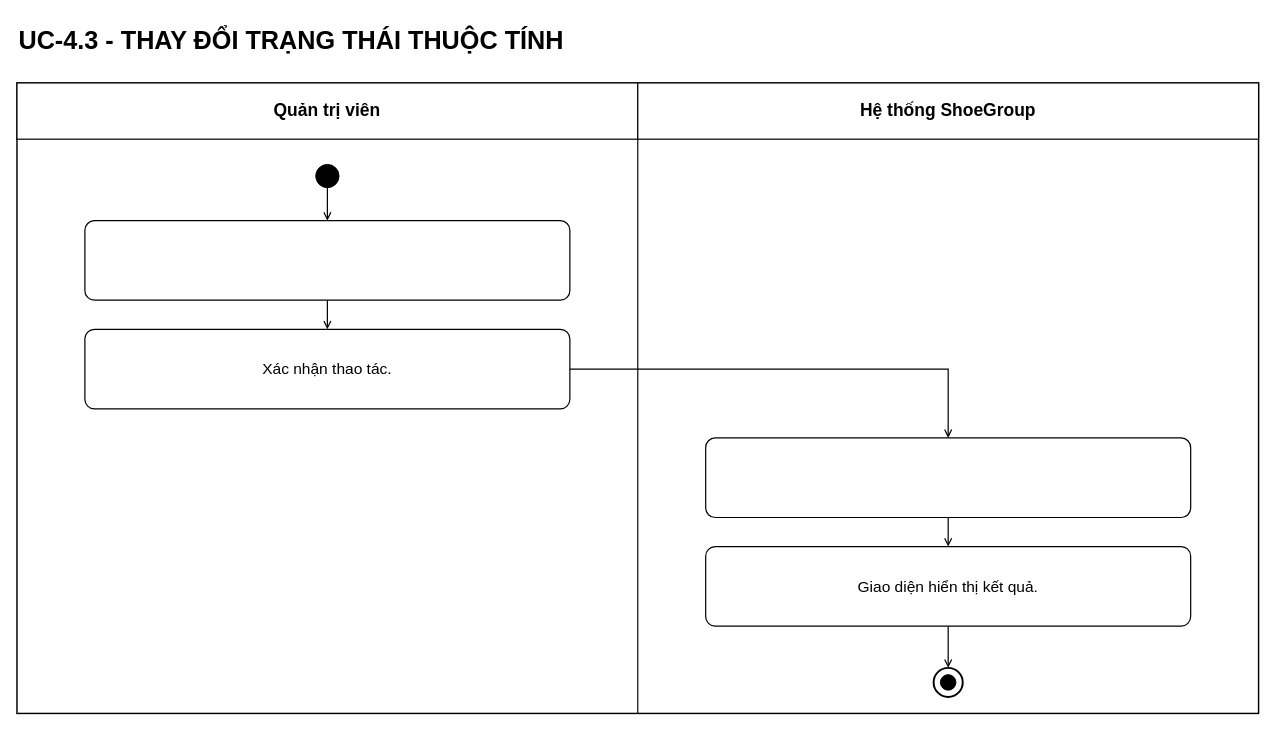
Image size: 1277x731. Some labels were removed from this diagram. The box of each missing label's shape, as (x1, y1, x2, y2) in pixels:
Backend kiểm tra liên kết và cập nhật IsActive hoặc xóa theo quy tắc.: (705, 437, 1191, 518)
Chọn bản ghi.: (84, 220, 570, 300)
